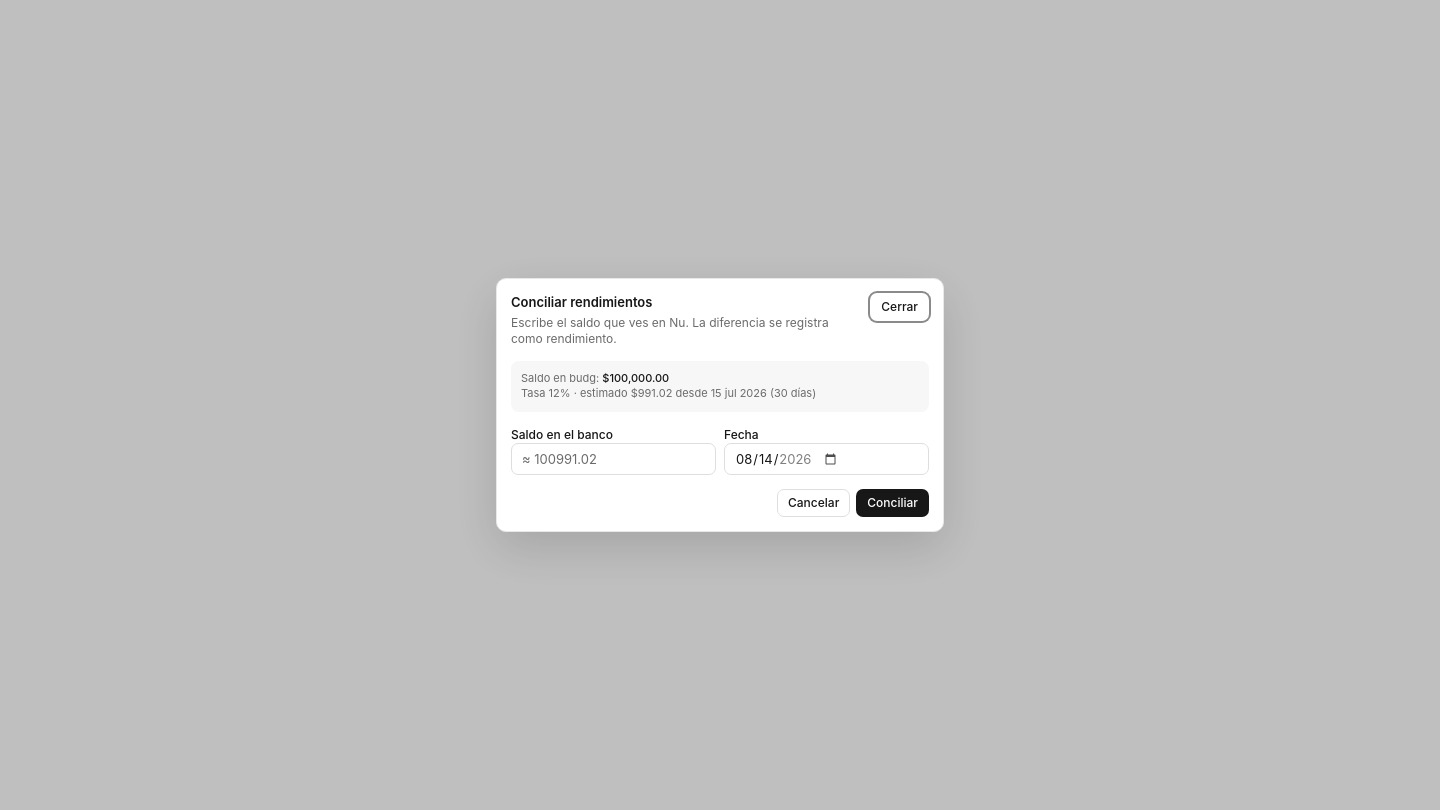
Test case: YieldReconciliationPanel › rejects yield above the difference
In the field labelled "Saldo en el banco": (614,459) [511,443,716,475], type "100991.02"
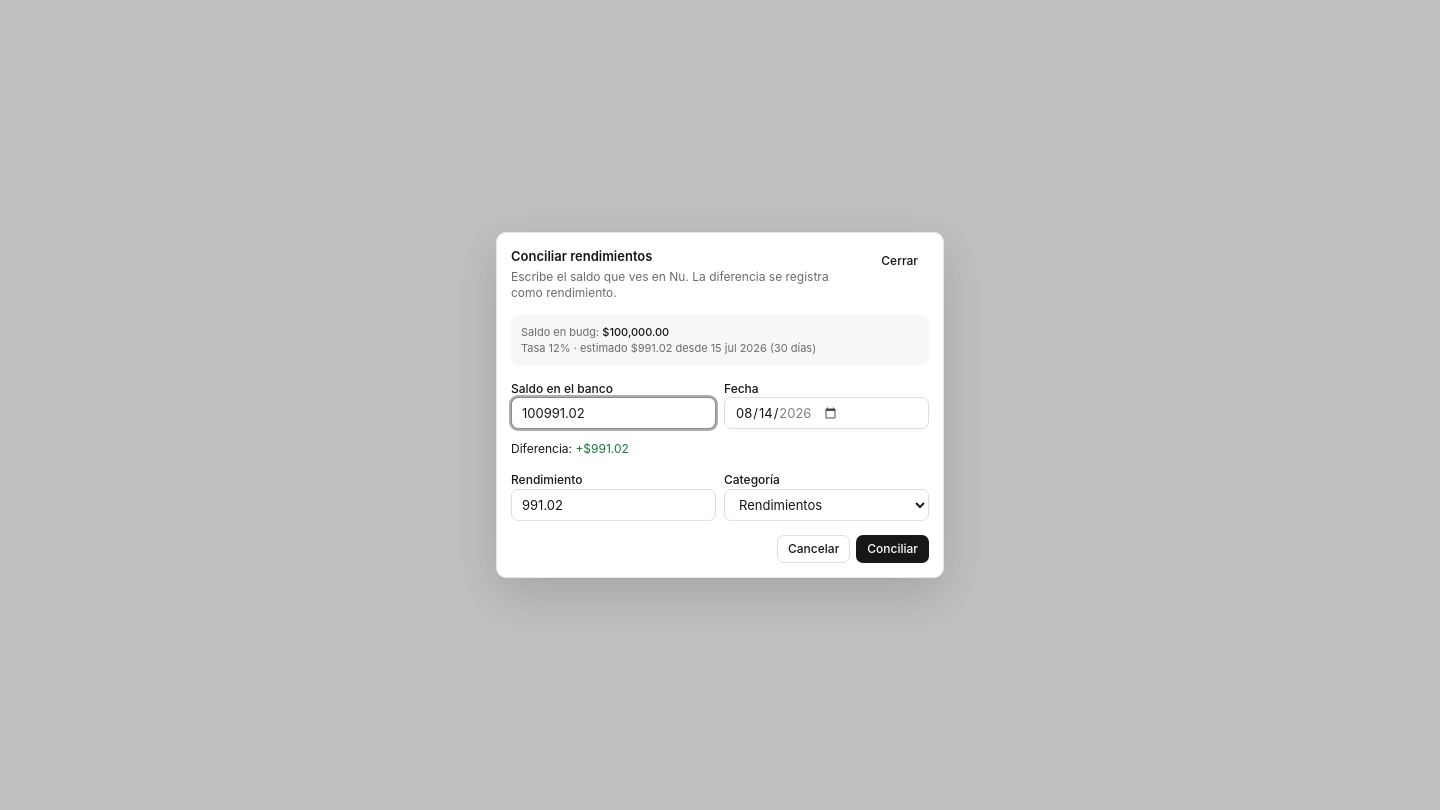
Clear the field labelled "Rendimiento": (614,505) [511,489,716,521]
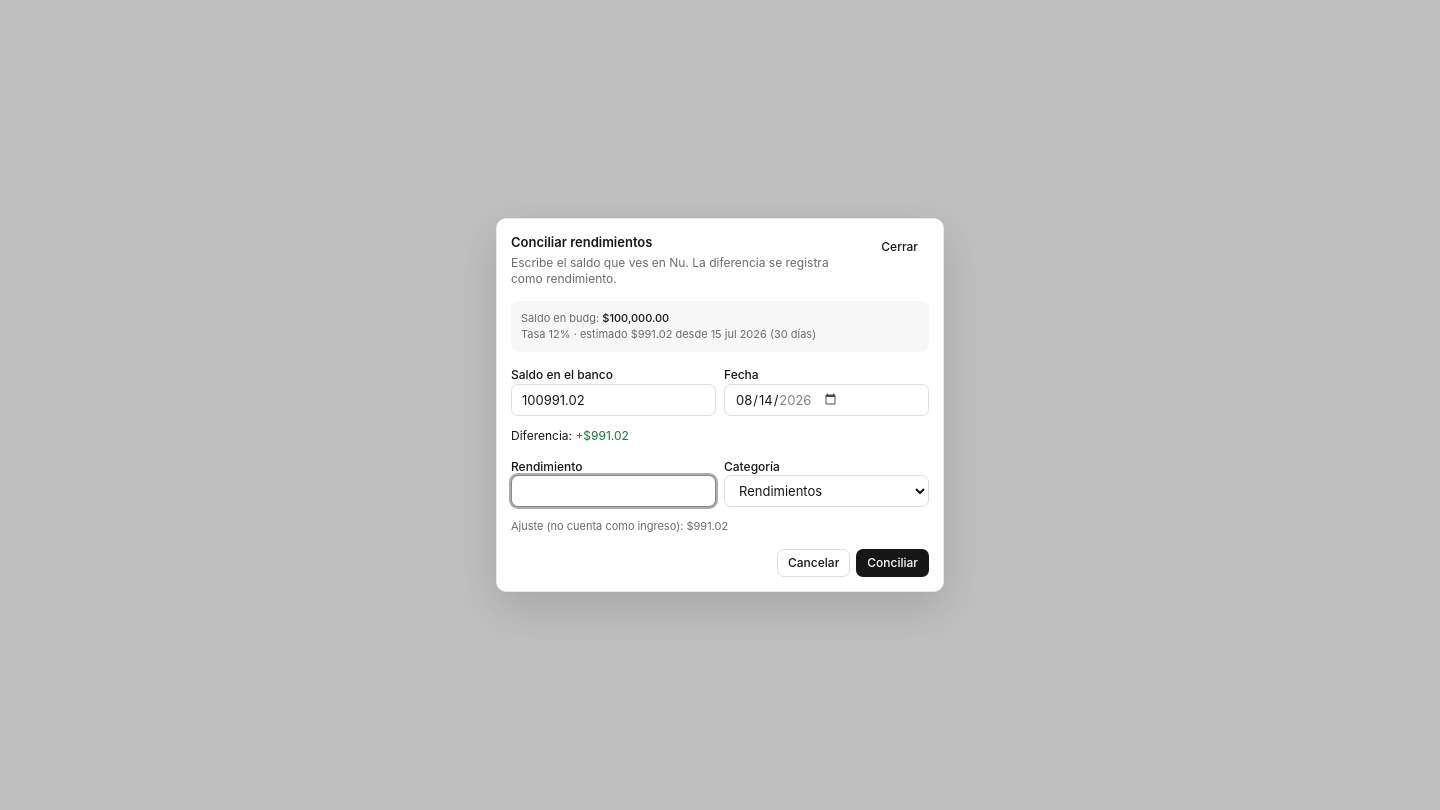
In the field labelled "Rendimiento": (614,491) [511,475,716,507], type "5000"
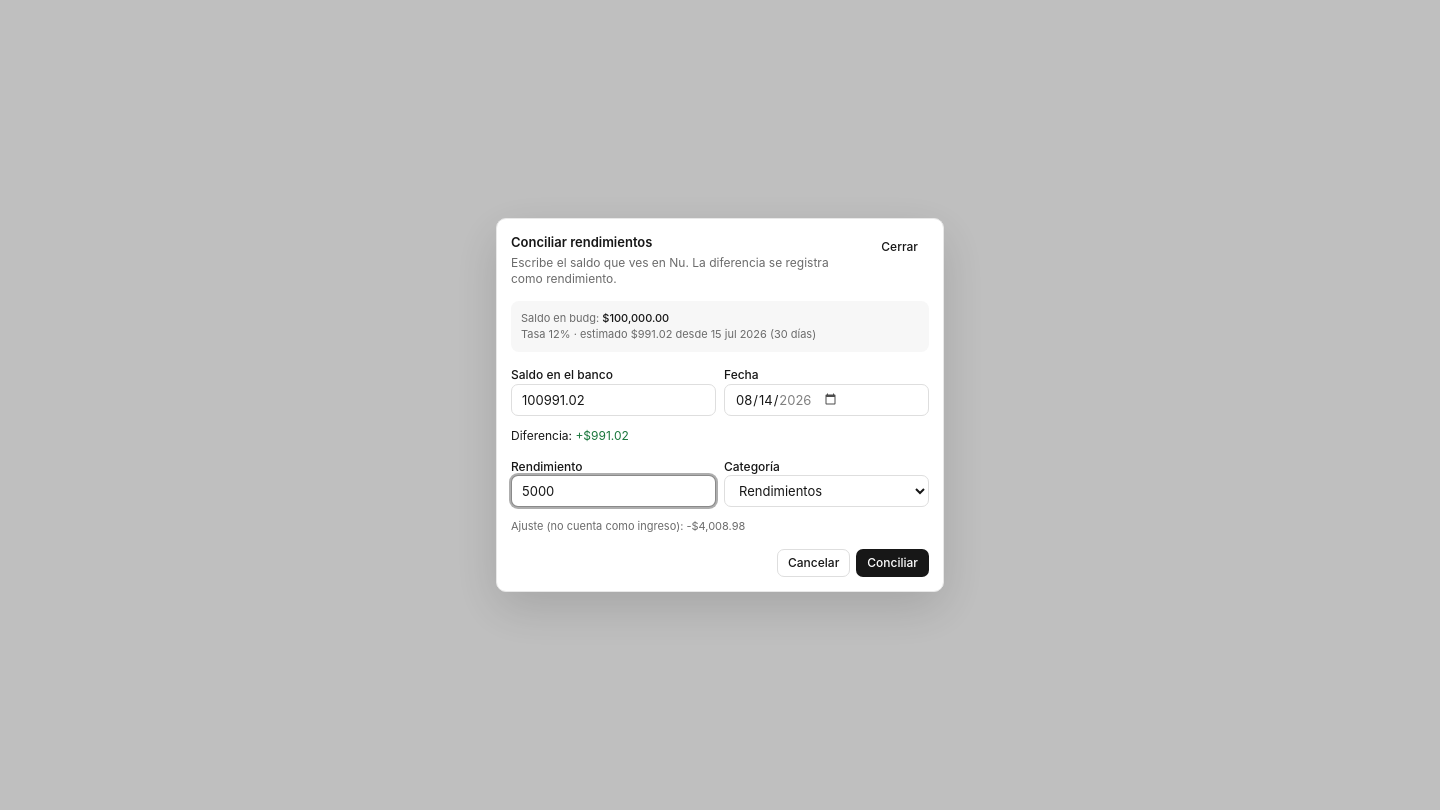
Click the button "Conciliar": (893,563) [856,549,929,577]
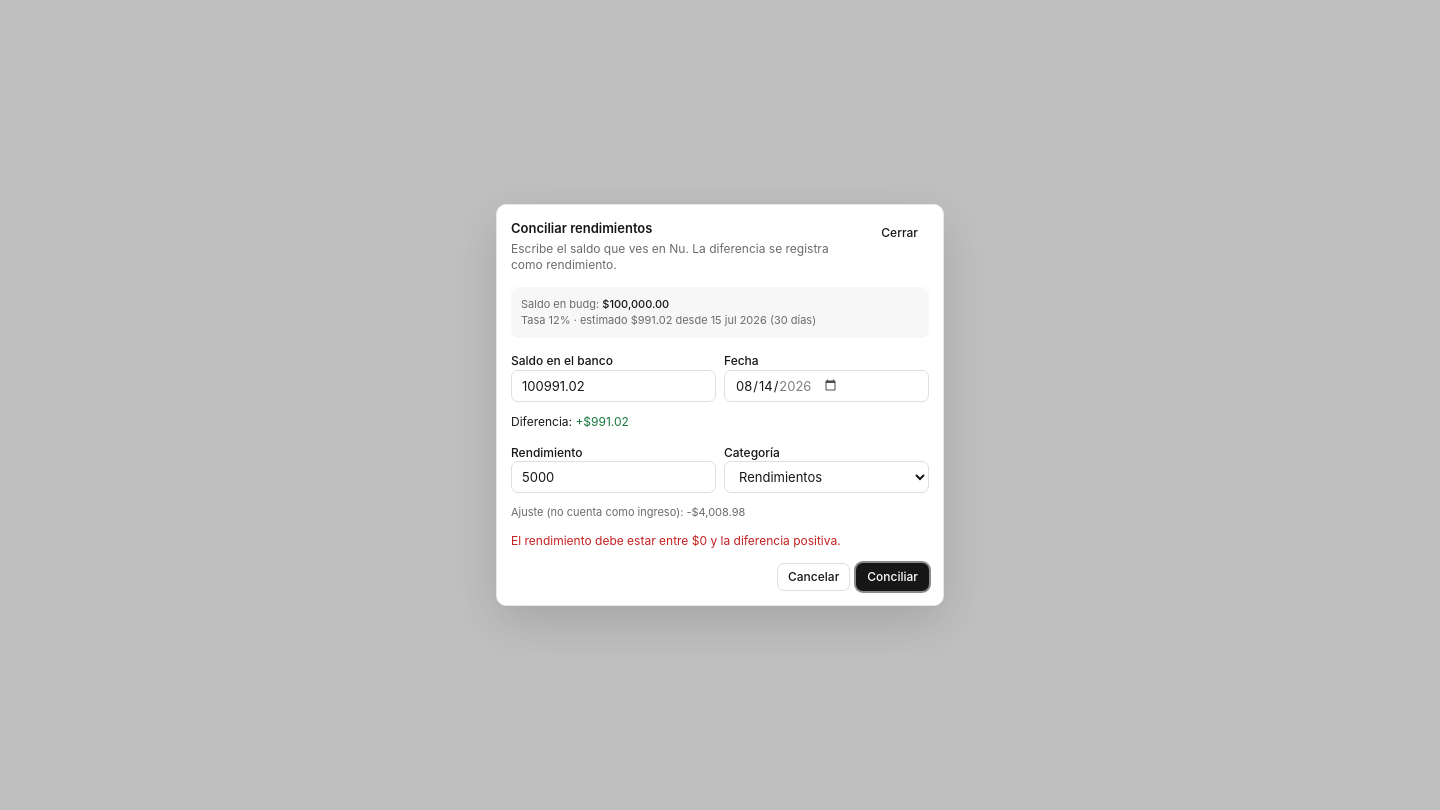
Expected: the message shows "entre $0 y la diferencia", [511,533,841,548]
